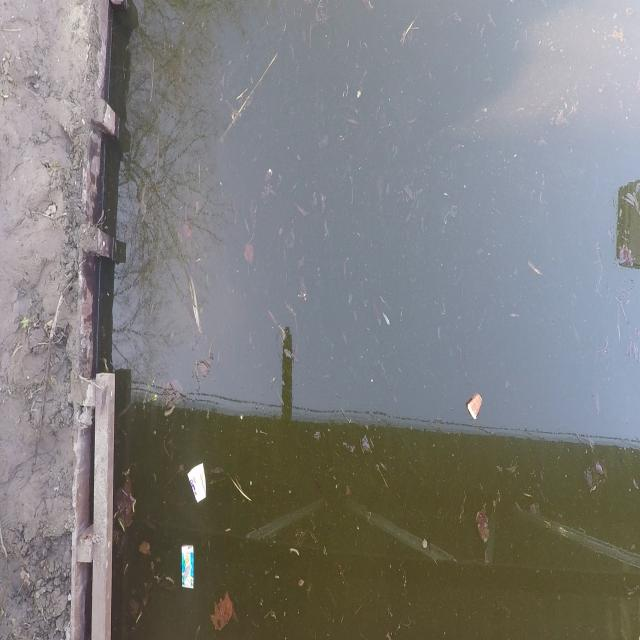Non plastique: (182, 460, 212, 513), (176, 536, 200, 600), (464, 389, 486, 426)
